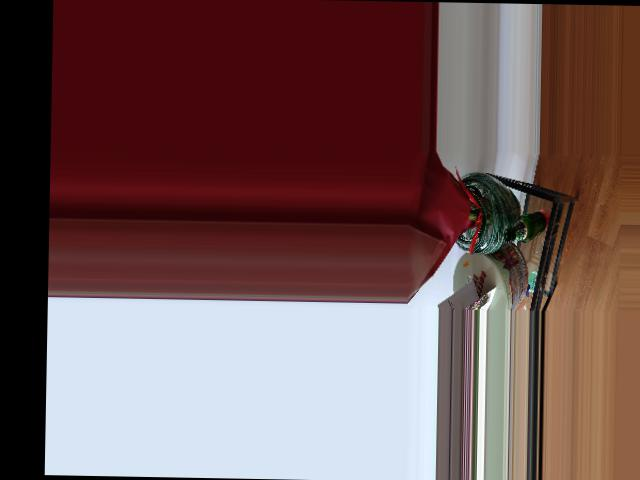beer: (504, 210, 546, 242)
